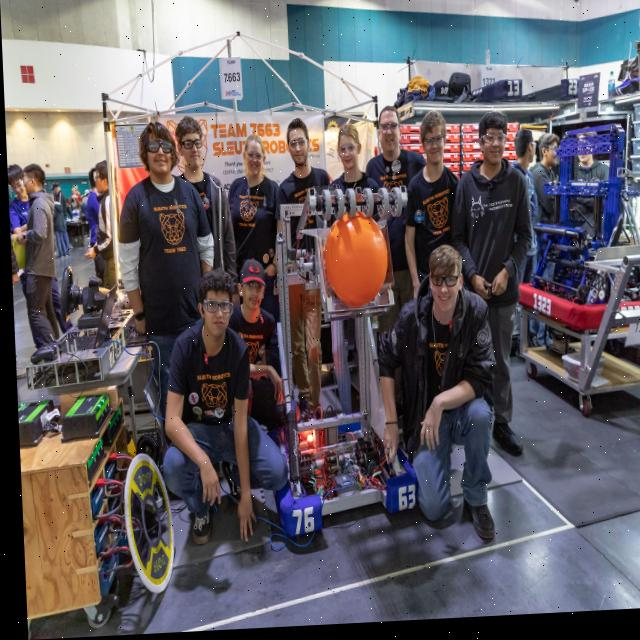robot: (254, 184, 416, 544), (503, 106, 640, 336)
